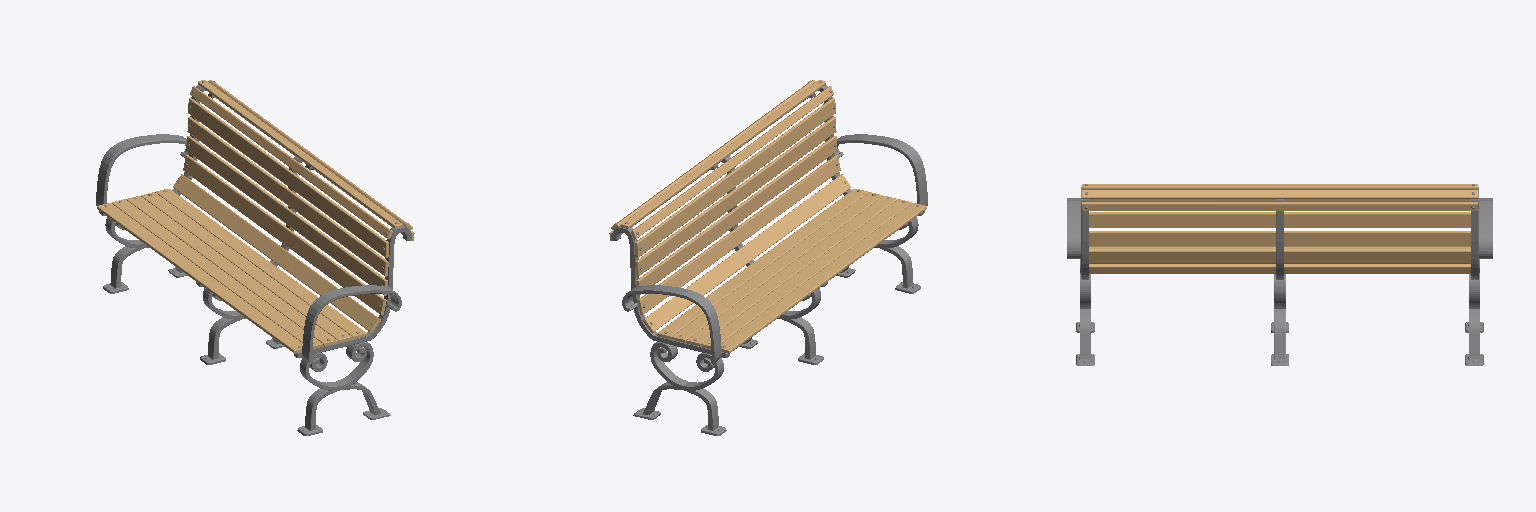
The picture shows the model from 3 angles: view 1: azimuth 30°, elevation 25°; view 2: azimuth 150°, elevation 25°; view 3: azimuth 270°, elevation 25°; orthographic projection.
Visible parts, largest first — view 1: banca, baseBanca; view 2: banca, baseBanca; view 3: banca, baseBanca.
Part boxes in pixels (x1,y1,x2,y2): banca: (97,80,414,353); baseBanca: (96,81,411,435); banca: (609,80,926,353); baseBanca: (612,81,927,435); banca: (1082,184,1477,273); baseBanca: (1067,184,1492,365).
Bounding box in the file's own units: 3.15 × 4.66 × 9.63.
2 materials, 1 textured.